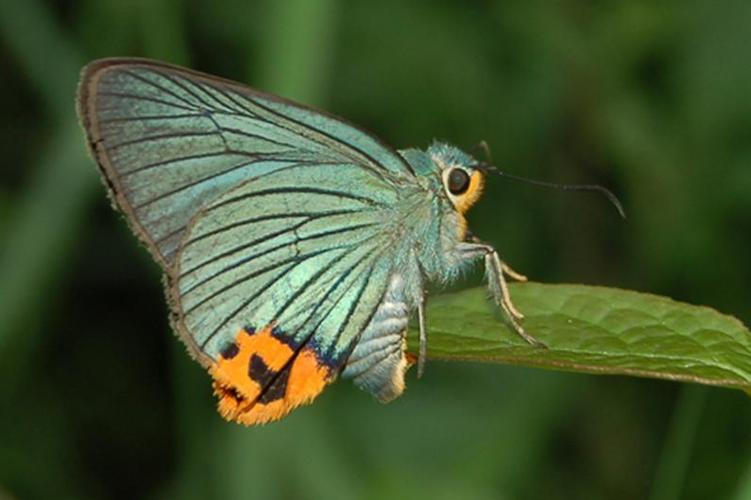Hesperiidae: (68, 53, 653, 425)
